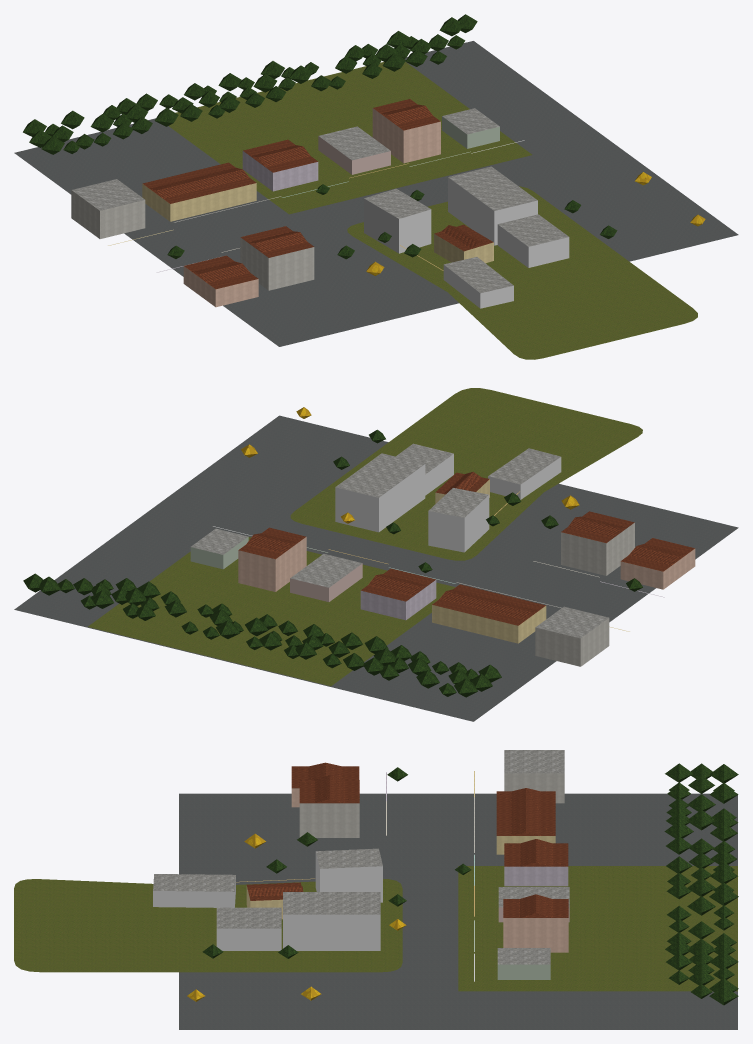
The model's file is cidade_S05_07_lod.gltf.
The picture shows the model from 3 angles, top to bottom: view 1: azimuth 30°, elevation 25°; view 2: azimuth 150°, elevation 25°; view 3: azimuth 270°, elevation 25°; orthographic projection. The views are drawn at different scales.
Visible parts, largest first — view 1: S05_07_Chao_LOD2, S05_07_Edificios_LOD1, S05_07_Vegetacao_LOD2, S05_07_Silhueta_LOD2; view 2: S05_07_Chao_LOD2, S05_07_Edificios_LOD1, S05_07_Vegetacao_LOD2, S05_07_Silhueta_LOD2; view 3: S05_07_Chao_LOD2, S05_07_Edificios_LOD1, S05_07_Vegetacao_LOD2, S05_07_Silhueta_LOD2.
Boxes of the visible parts, x1,y1,x2,y2 form: S05_07_Chao_LOD2: (14, 41, 738, 359); S05_07_Edificios_LOD1: (71, 104, 569, 308); S05_07_Vegetacao_LOD2: (23, 14, 705, 275); S05_07_Silhueta_LOD2: (142, 99, 493, 306); S05_07_Chao_LOD2: (14, 388, 738, 721); S05_07_Edificios_LOD1: (190, 443, 695, 666); S05_07_Vegetacao_LOD2: (23, 407, 642, 697); S05_07_Silhueta_LOD2: (238, 472, 695, 642); S05_07_Chao_LOD2: (14, 793, 737, 1029); S05_07_Edificios_LOD1: (153, 750, 569, 981); S05_07_Vegetacao_LOD2: (187, 763, 738, 1005); S05_07_Silhueta_LOD2: (246, 766, 568, 952).
Size of the model in its own units: 107 by 8.38 by 130.
16 materials, 16 textured.
